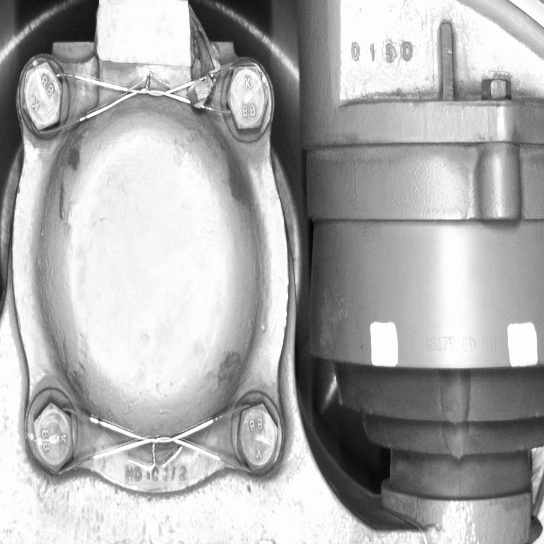IronWire: (25, 394, 286, 482), (13, 53, 273, 140)
Screw: (11, 52, 71, 140), (228, 392, 284, 481), (215, 55, 273, 140), (26, 395, 80, 481)
